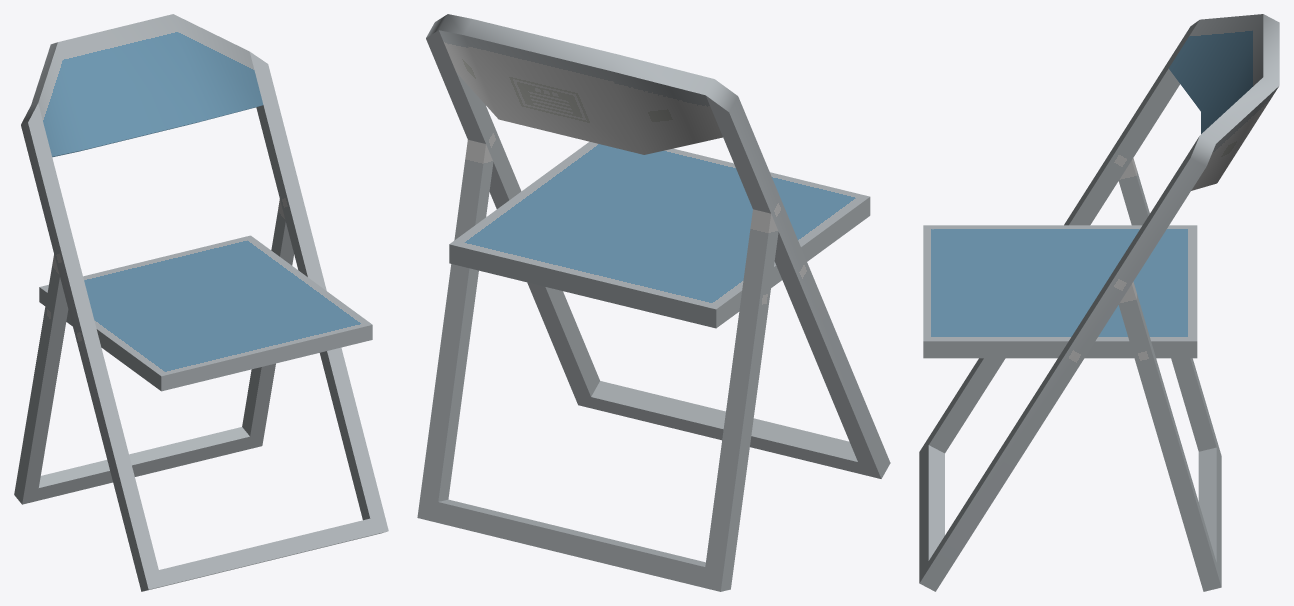
The model's file is 0445_Folding_Chair.glb.
3 views of the same model, side by side, from view 1: azimuth 30°, elevation 25°; view 2: azimuth 150°, elevation 25°; view 3: azimuth 270°, elevation 25° (orthographic). The views are drawn at different scales.
Parts seen in each view (by area): view 1: part_0; view 2: part_0; view 3: part_0.
Part boxes in pixels (left/top/right/bottom): part_0: left=14, top=14, right=388, bottom=591; part_0: left=417, top=14, right=890, bottom=591; part_0: left=919, top=14, right=1279, bottom=591.
Bounding box in the file's own units: 0.5 × 0.851 × 0.5779.
Materials: 1 (1 with a texture image).
